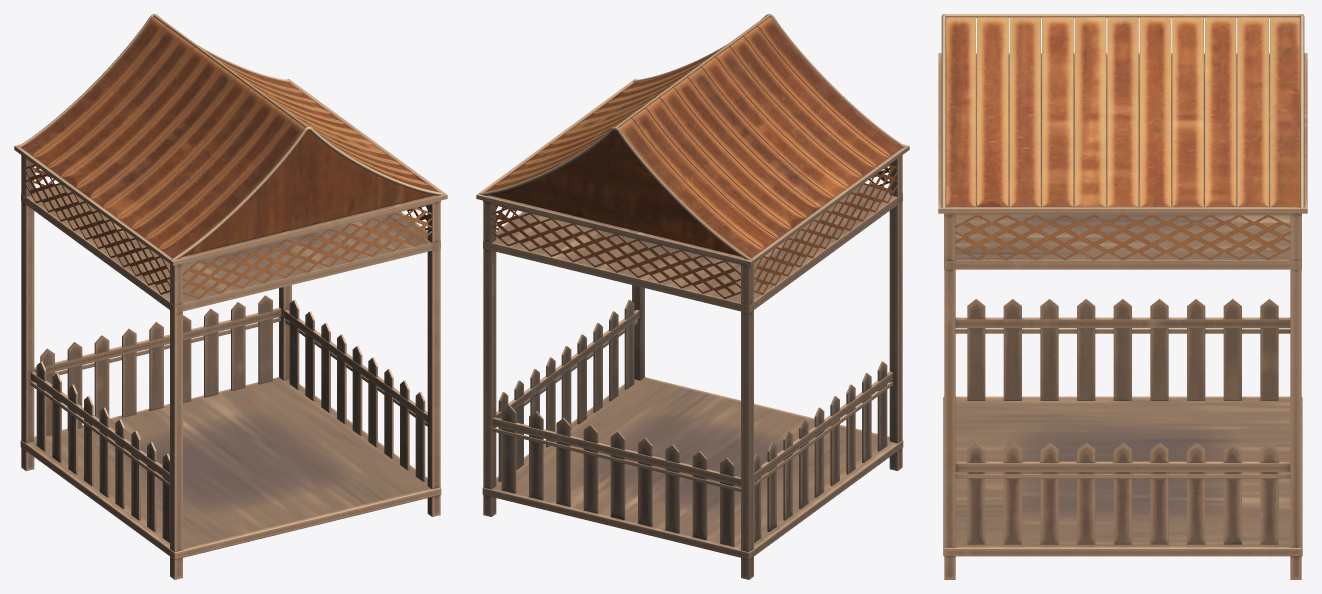
Rendered from wooden_pergola_-_3d_building.glb.
The picture shows the model from 3 angles, left to right: view 1: azimuth 30°, elevation 25°; view 2: azimuth 150°, elevation 25°; view 3: azimuth 270°, elevation 25°; orthographic projection. The views are drawn at different scales.
Visible parts, largest first — view 1: Plane.021, Plane.012, Plane.018, Plane.013, Plane.014, Plane.025, Plane.019, Plane.022, Plane.016, Plane.020, Plane.023, Pipe.002 (+2 smaller); view 2: Plane.021, Plane.012, Plane.013, Plane.018, Plane.014, Plane.025, Plane.019, Plane.016, Plane.022, Plane.020, Plane.023, Pipe.002 (+2 smaller); view 3: Plane.021, Plane.012, Plane.018, Plane.014, Plane.013, Plane.023, Plane.016, Plane.020, Plane.017, Pipe.002, Pipe.003.
Part boxes in pixels (x1,y1,x2,y2): Plane.021: (21,16,438,258); Plane.012: (20,377,441,559); Plane.018: (36,300,425,542); Plane.013: (21,155,440,579); Plane.014: (21,184,440,313); Plane.025: (182,130,433,256); Plane.019: (40,295,272,436); Plane.022: (34,167,431,299); Plane.016: (30,307,427,481); Plane.020: (14,79,447,266); Plane.023: (26,164,427,294); Pipe.002: (17,14,444,260); Plane.021: (485,16,902,258); Plane.012: (482,377,903,559); Plane.013: (483,155,902,579); Plane.018: (498,300,887,542); Plane.014: (483,184,902,313); Plane.025: (490,130,741,256); Plane.019: (501,404,734,546); Plane.016: (492,309,893,486); Plane.022: (492,167,889,299); Plane.020: (476,79,909,266); Plane.023: (496,164,897,294); Pipe.002: (479,14,906,260); Plane.021: (945,17,1300,206); Plane.012: (943,396,1302,556); Plane.018: (967,299,1278,544); Plane.014: (944,215,1301,269); Plane.013: (944,215,1301,579); Plane.023: (955,215,1290,259); Plane.016: (955,317,1290,471); Plane.020: (938,53,1307,215); Plane.017: (955,329,1290,478); Pipe.002: (941,14,1304,208); Pipe.003: (944,14,1301,17).
Size of the model in its own units: 527 by 772 by 527.
Materials: 1 (1 with a texture image).
